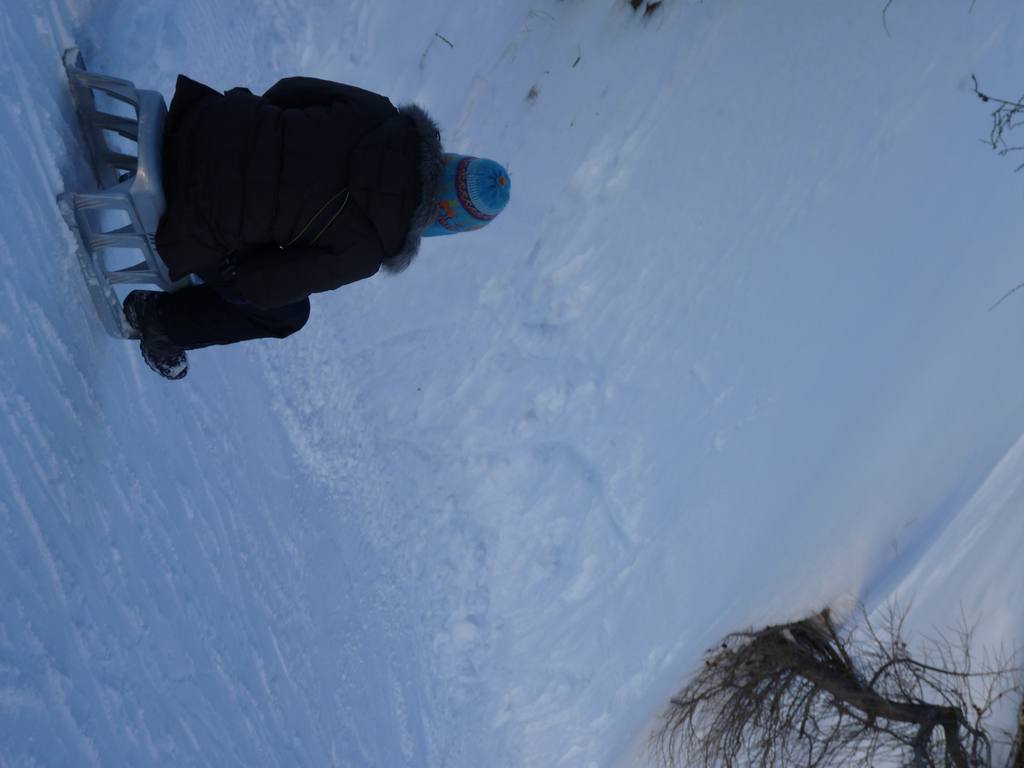person: (116, 74, 513, 380)
